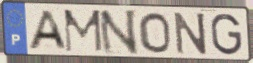A: (26, 10, 70, 52)
G: (209, 12, 244, 57)
M: (62, 8, 105, 54)
N: (97, 8, 140, 56), (172, 11, 209, 56)
O: (137, 11, 173, 55)
